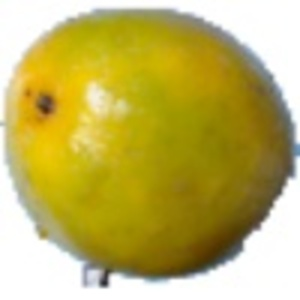maracujá: (1, 6, 300, 288)
